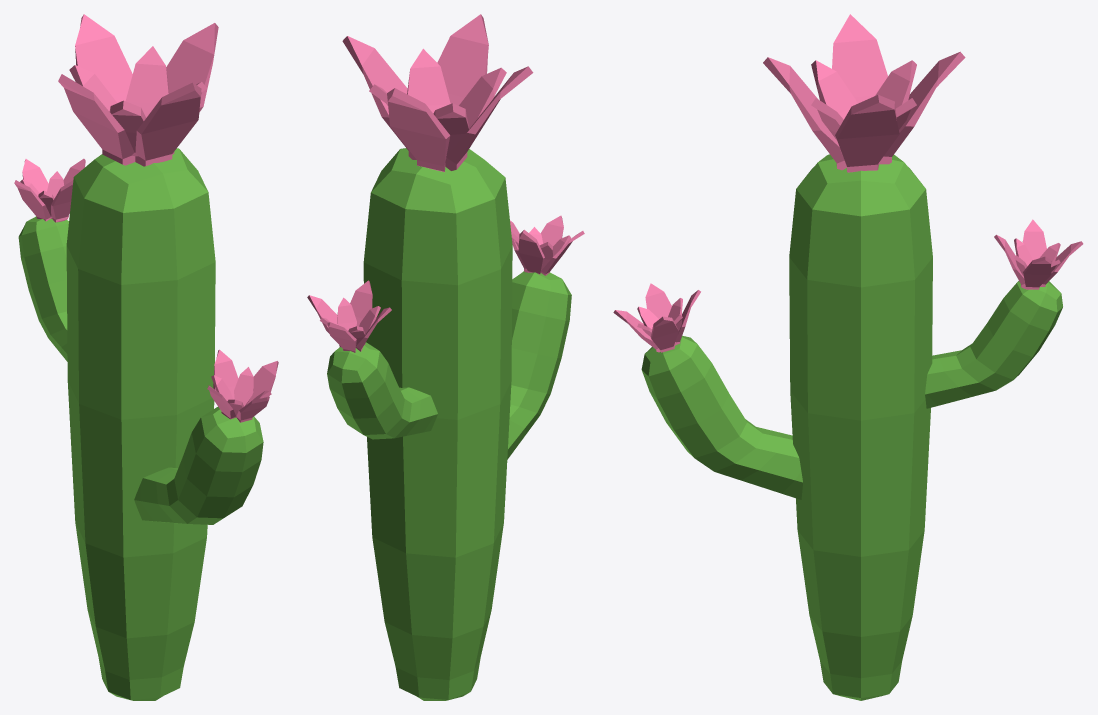
Rendered from nature-cactusflowers-3.glb.
The picture shows the model from 3 angles, left to right: view 1: azimuth 30°, elevation 25°; view 2: azimuth 150°, elevation 25°; view 3: azimuth 270°, elevation 25°; orthographic projection.
Parts seen in each view (by area): view 1: CactusFlowers_3; view 2: CactusFlowers_3; view 3: CactusFlowers_3.
Part boxes in pixels (x1=…): CactusFlowers_3: x1=14, y1=14, x2=278, y2=700; CactusFlowers_3: x1=307, y1=14, x2=584, y2=700; CactusFlowers_3: x1=613, y1=14, x2=1083, y2=700.
Size of the model in its own units: 47.74 by 167 by 112.
